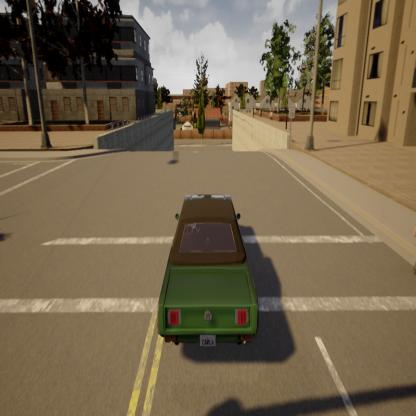Cars: (150, 185, 266, 360)
